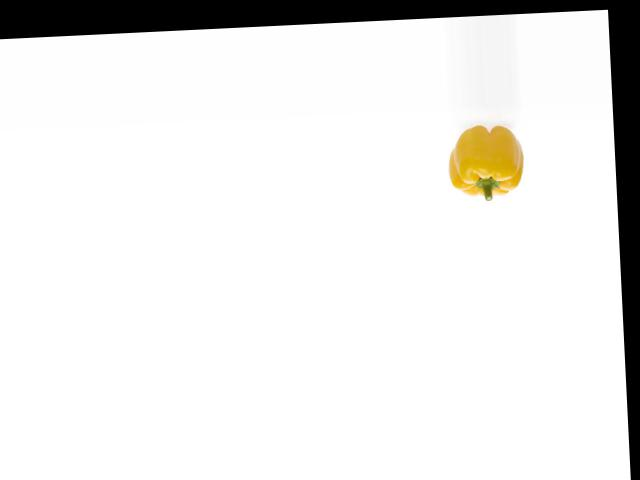bell_pepper: (441, 121, 524, 205)
